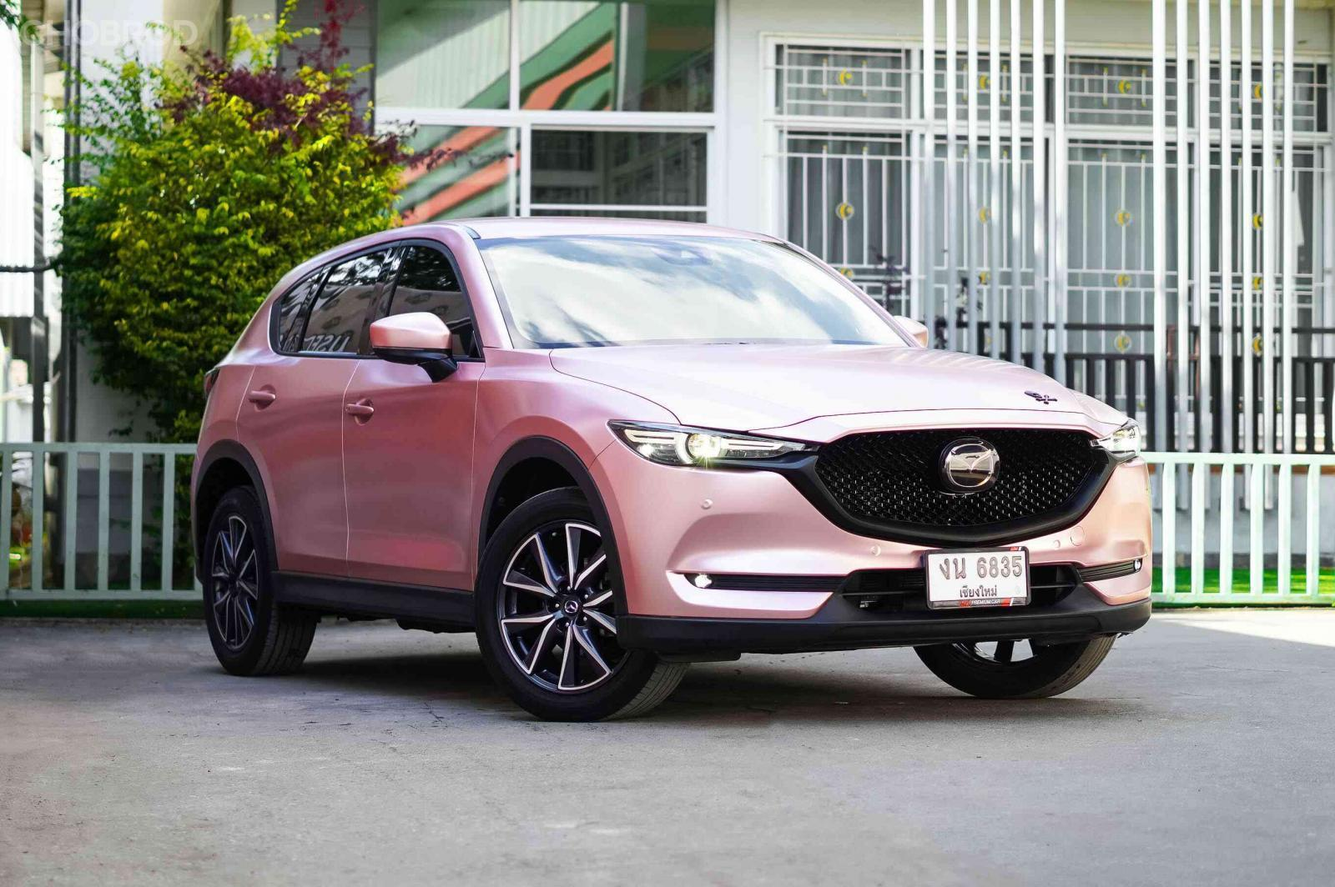license-plate: (913, 537, 1042, 619)
